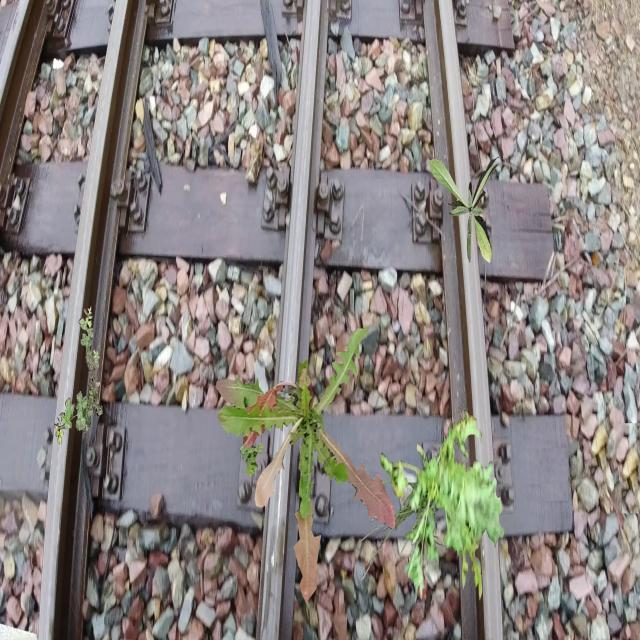Plant: (216, 326, 396, 604), (380, 407, 505, 603), (354, 418, 472, 582), (429, 157, 501, 265), (54, 307, 102, 445), (240, 436, 264, 477)
